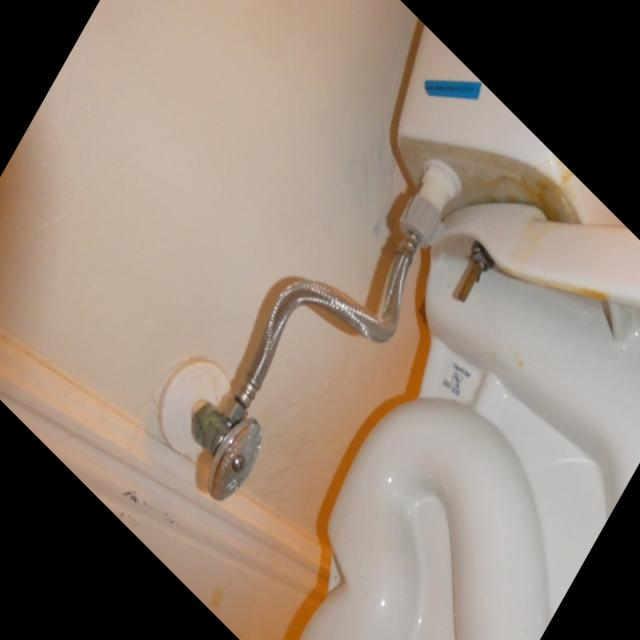good_bolt: (447, 246, 492, 308)
good_coupler: (392, 189, 447, 259)
good_line: (227, 178, 426, 466)
good_valve: (177, 385, 268, 507)
